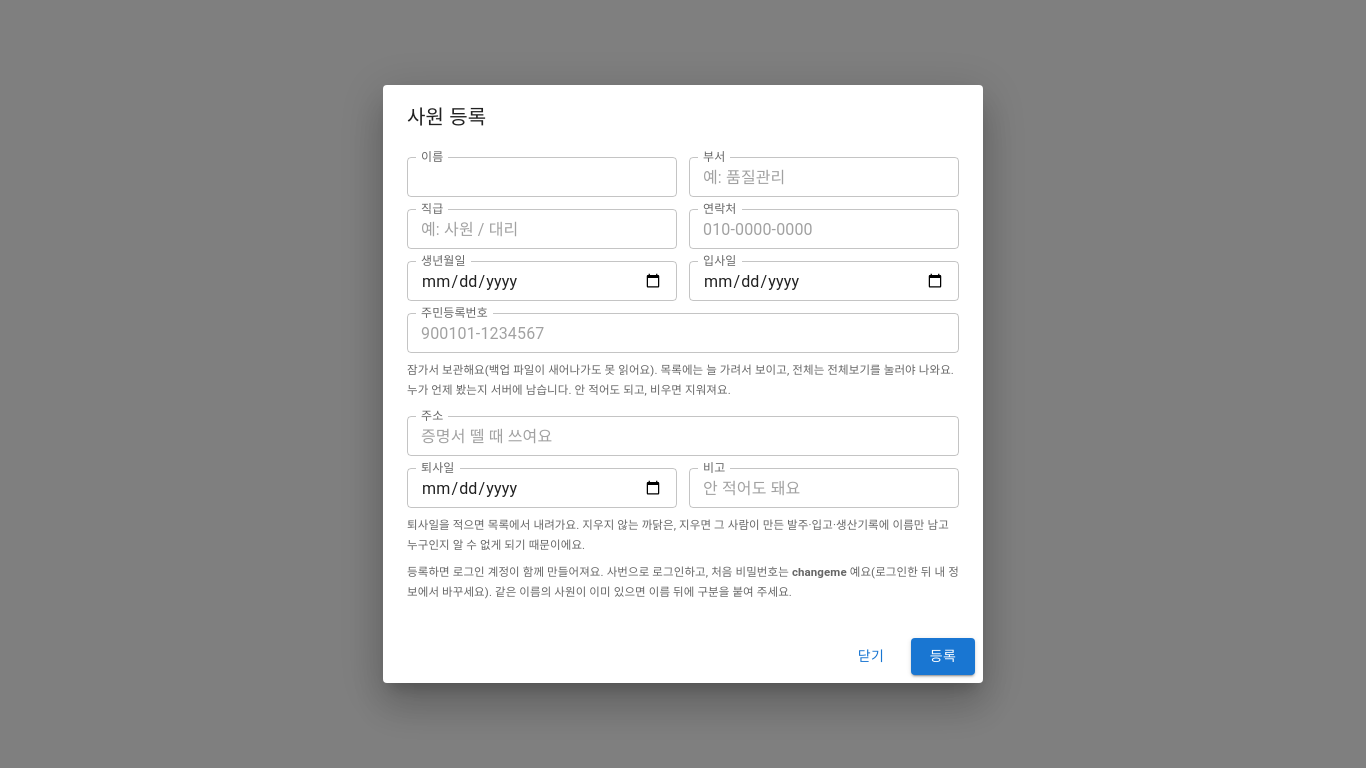
Test: 사원 등록 때 로그인 계정도 함께 (2026-10-21) › 새로 등록하는 창에는 사번 · changeme 안내가 있고, 서버 문구(같은 이름)를 창에 보인다
Expected: the text "등록하면 로그인 계정이 함께 만들어져요" shows "changeme", [792,565,847,579]
Type "김민수" into the field labelled "이름" at (542, 177), box [407,157,677,197]
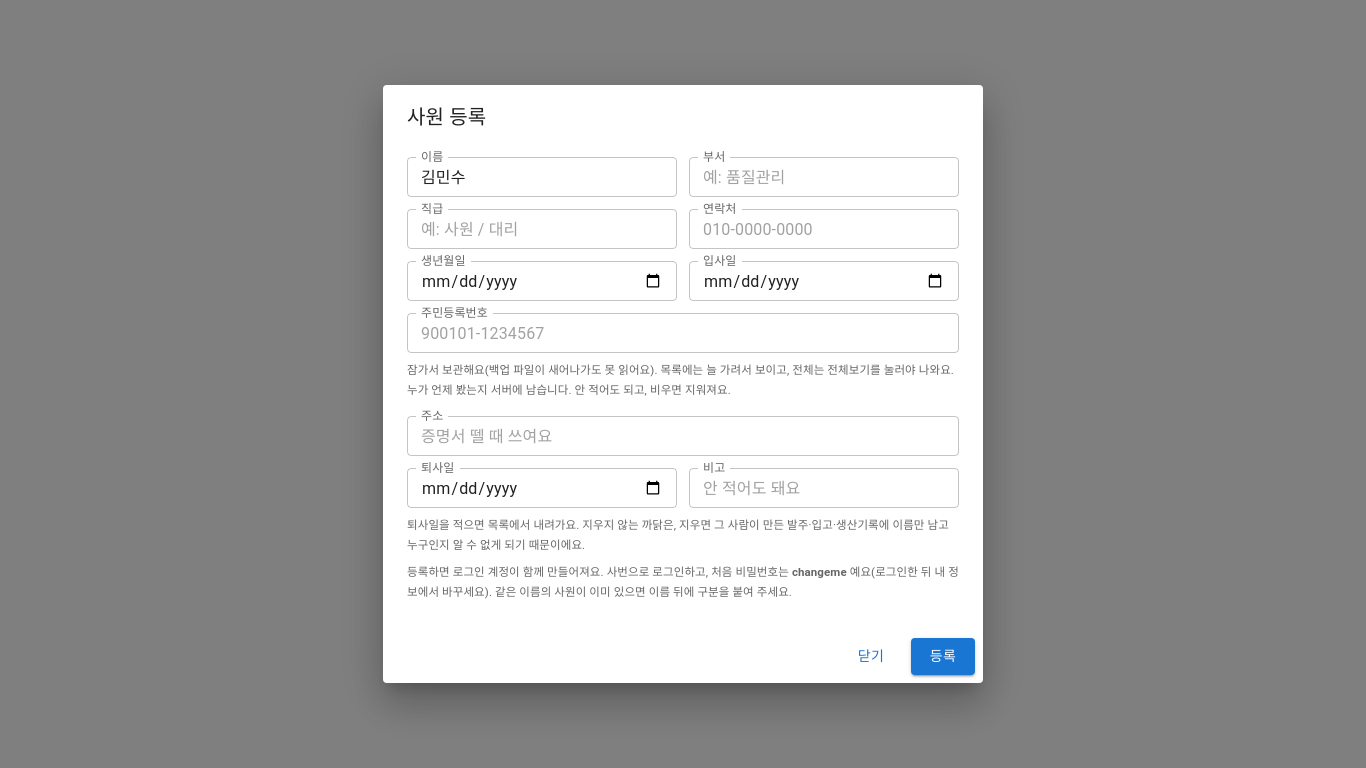
Click the button "등록" at (943, 657), box [911,638,975,675]
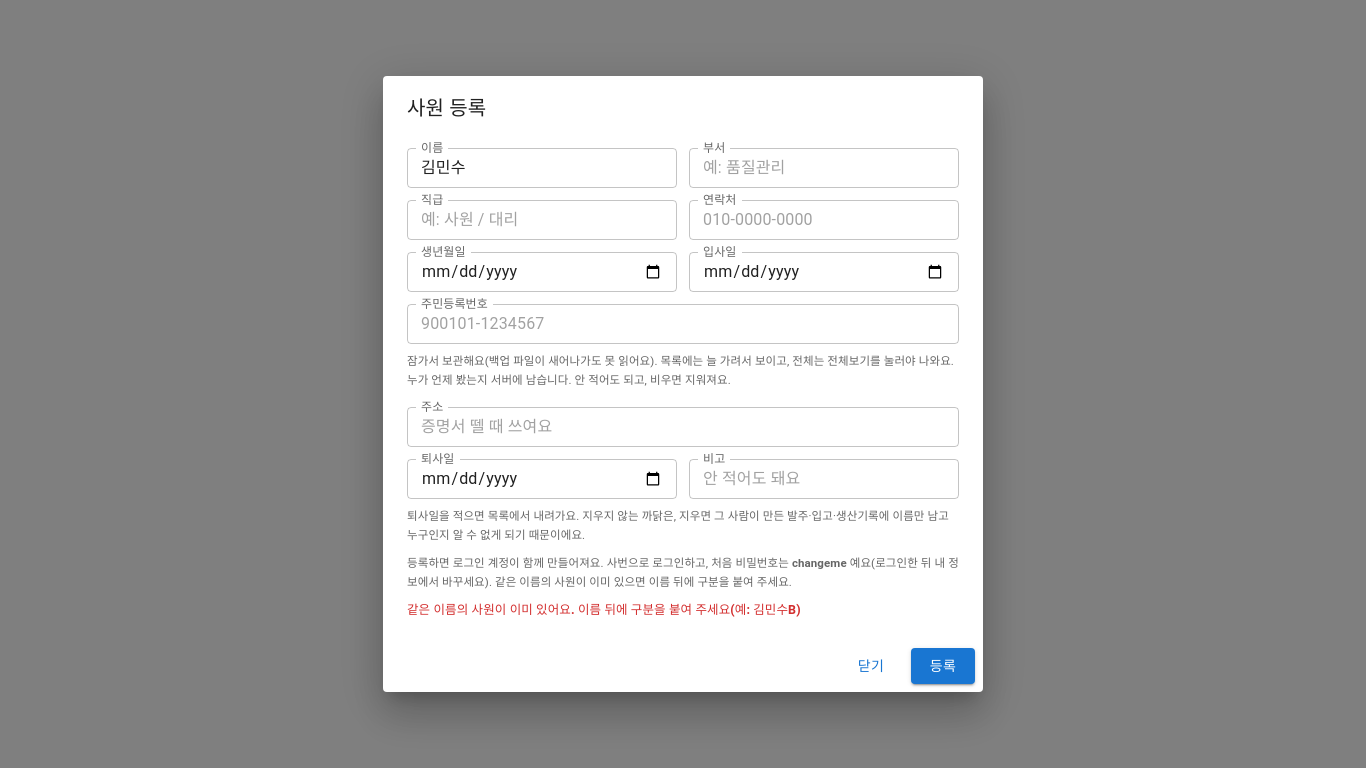
Now the text "같은 이름의 사원이 이미 있어요. 이름 뒤에 구분을 붙여 주세요(예: 김민수B)" is shown, box [407,602,801,617]
